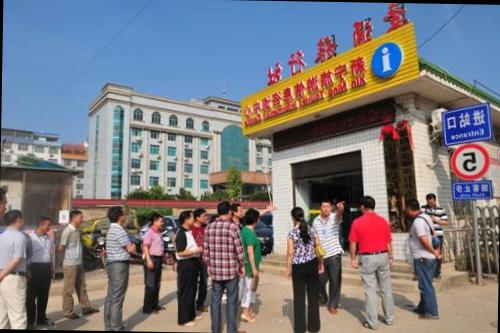no_helmet: (400, 194, 422, 221), (175, 207, 197, 232), (240, 207, 263, 230), (104, 202, 126, 226), (67, 206, 87, 229), (358, 193, 378, 215), (5, 208, 23, 232), (34, 216, 55, 236), (149, 210, 168, 232), (289, 203, 306, 225), (216, 195, 232, 218), (422, 189, 438, 210), (318, 198, 336, 214), (193, 207, 209, 223), (229, 201, 244, 218)
